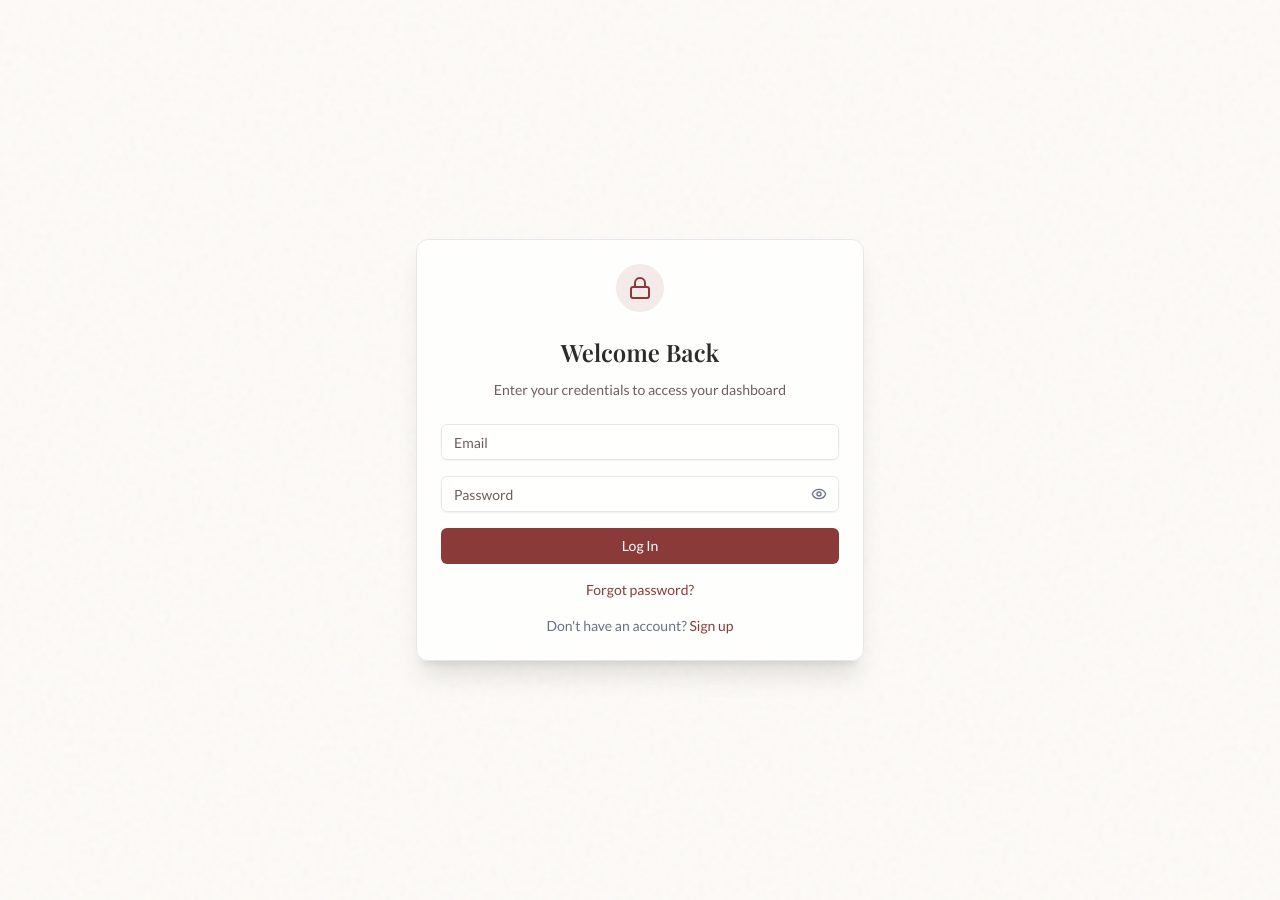
Test: LoginPage › Forgot Password › should open forgot password modal when clicked
The image size is (1280, 900).
Click the button "Forgot password?".
click(640, 590)  # box x1=586 y1=580 x2=694 y2=600
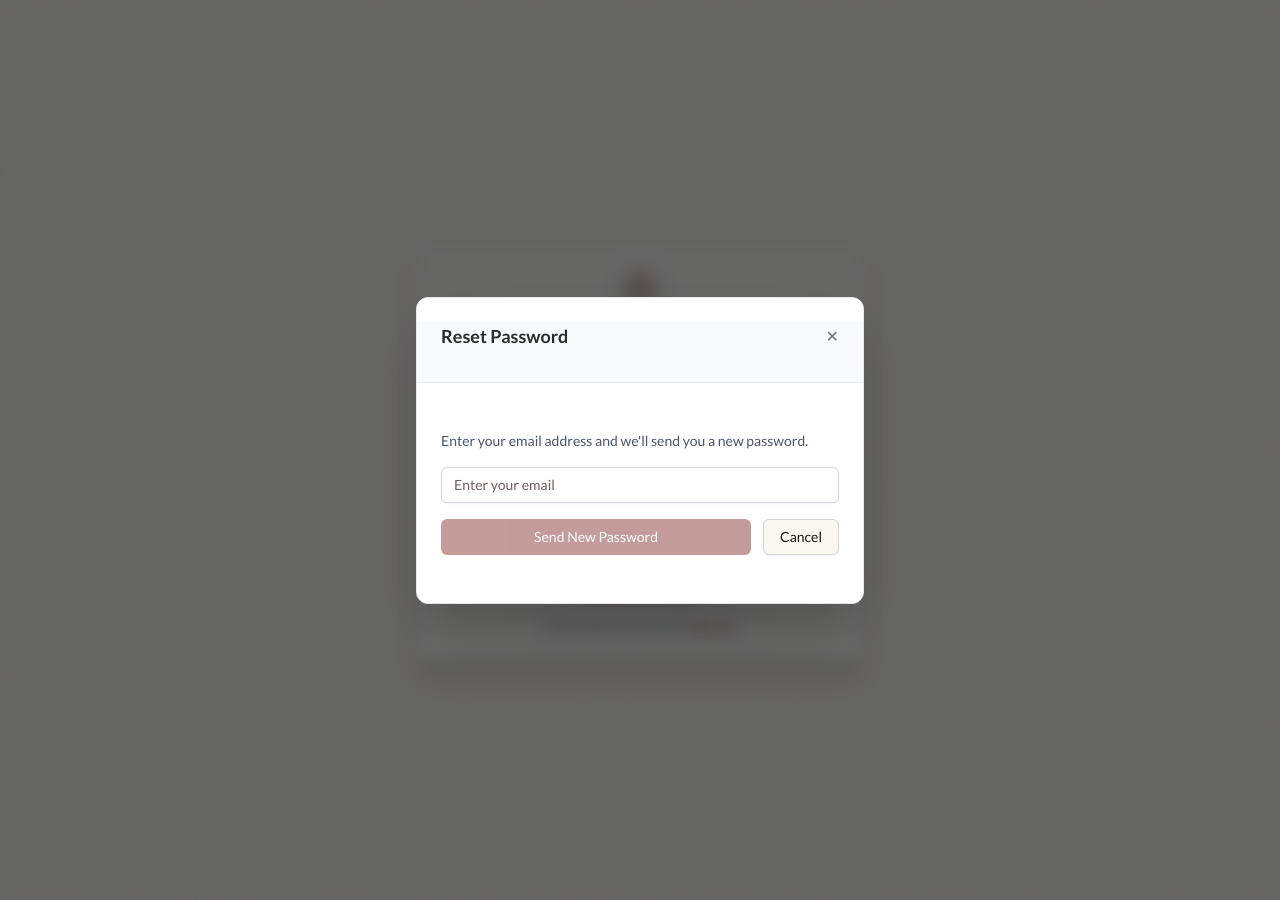
Now the text "Reset Password" is shown, box x1=441 y1=322 x2=568 y2=350
Now the field with placeholder "Enter your email" is shown, box x1=441 y1=466 x2=839 y2=502
Now the button "Send New Password" is shown, box x1=441 y1=518 x2=751 y2=554
